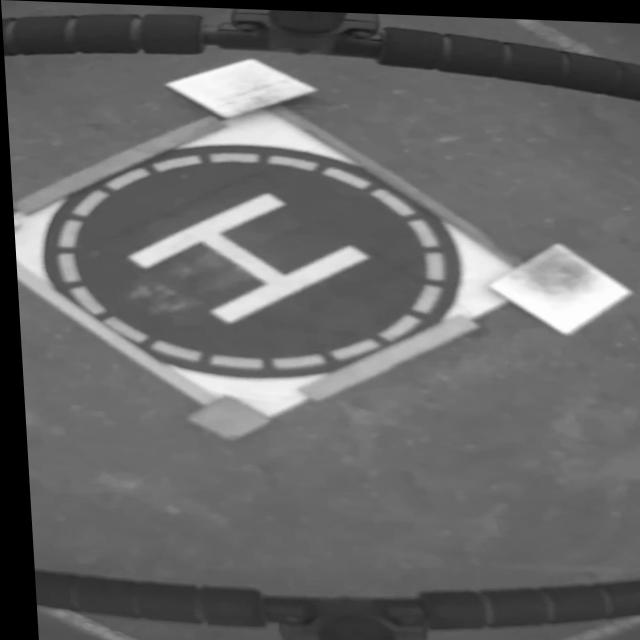Helipad: (125, 190, 367, 325)
